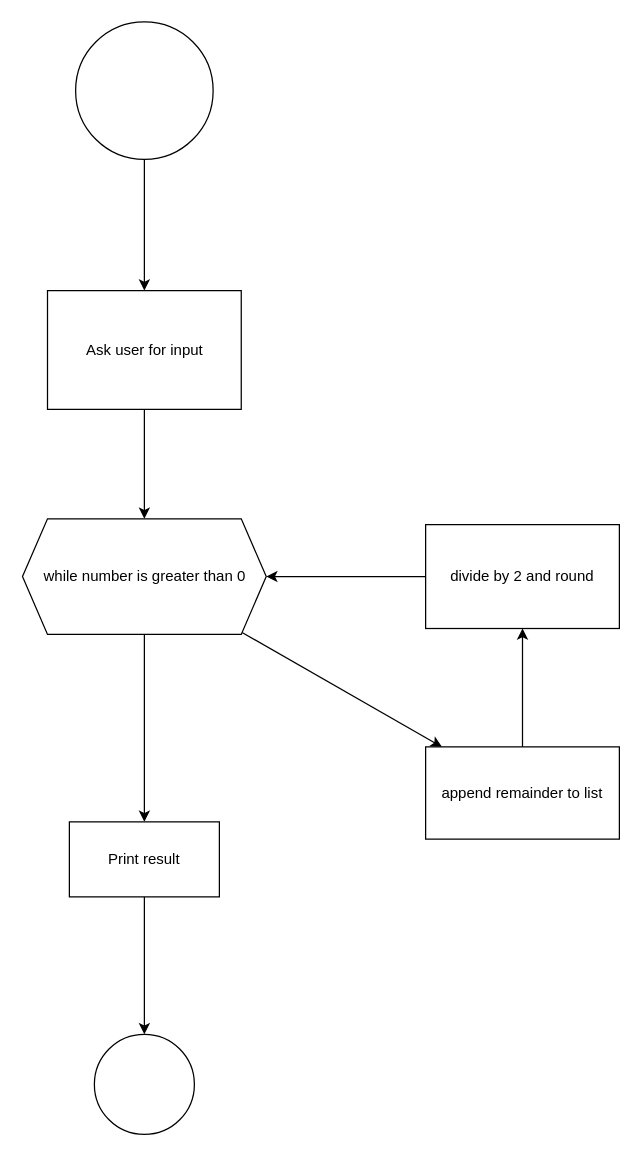
Image size: 641x1156. Some labels were removed from this diagram. Each missing label, with the centre of its shape:
"End" goes at (x=143, y=1083).
"START" goes at (x=143, y=90).
